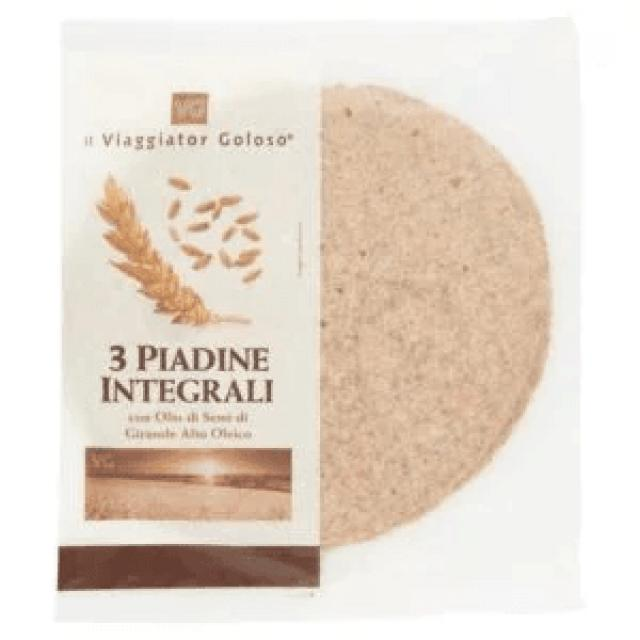Bread loaf: (55, 19, 582, 619)
